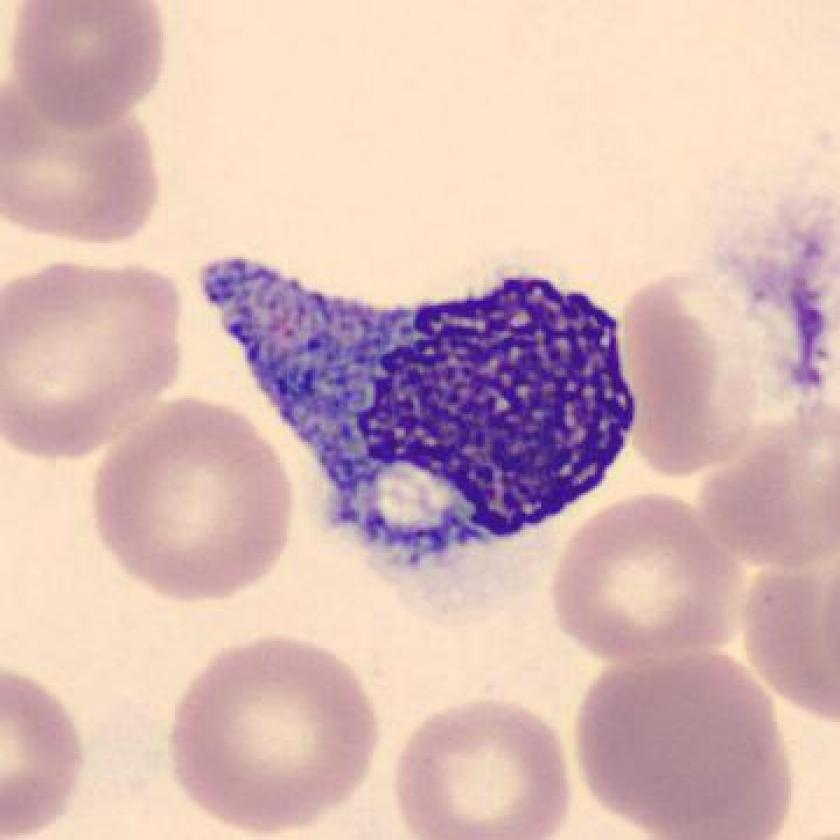monocyte: (178, 228, 650, 596)
